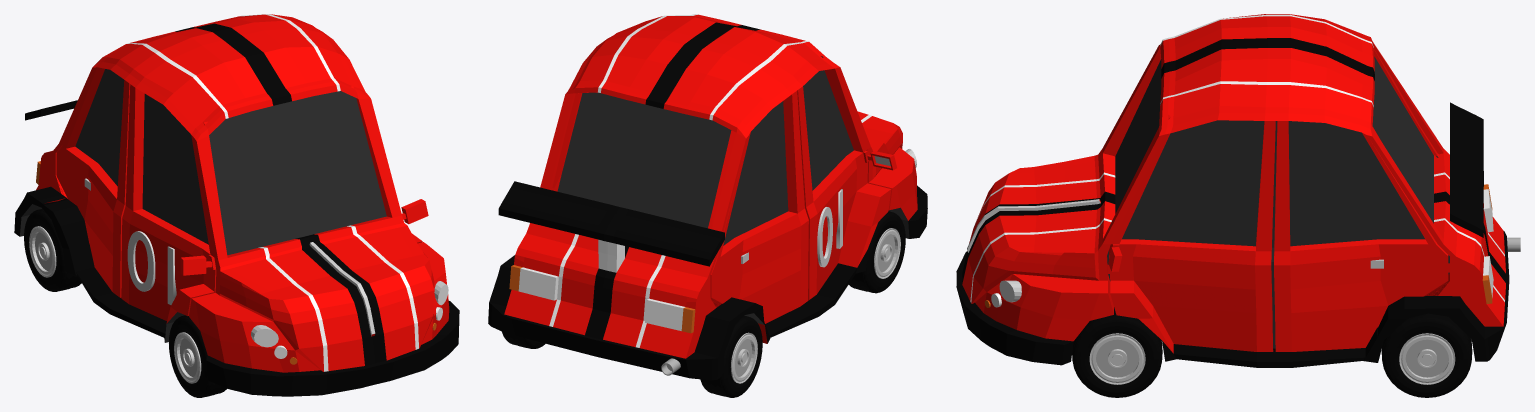
The picture shows the model from 3 angles, left to right: view 1: azimuth 30°, elevation 25°; view 2: azimuth 150°, elevation 25°; view 3: azimuth 270°, elevation 25°; orthographic projection. The views are drawn at different scales.
Visible parts, largest first — view 1: BODY, WHEEL.004, WHEEL.001, Text; view 2: BODY, WHEEL.004, WHEEL.001, Text; view 3: BODY, WHEEL.002, WHEEL.003.
Part boxes in pixels (box(x1,y1,x2,y2)): BODY: box(14, 14, 459, 396); WHEEL.004: box(24, 208, 81, 291); WHEEL.001: box(169, 315, 226, 397); Text: box(127, 231, 176, 304); BODY: box(488, 14, 927, 380); WHEEL.004: box(700, 315, 762, 397); WHEEL.001: box(848, 211, 905, 293); Text: box(817, 189, 842, 267); BODY: box(956, 14, 1509, 367); WHEEL.002: box(1381, 313, 1472, 397); WHEEL.003: box(1072, 307, 1162, 397).
Bounding box in the file's own units: 121 × 126 × 216.
